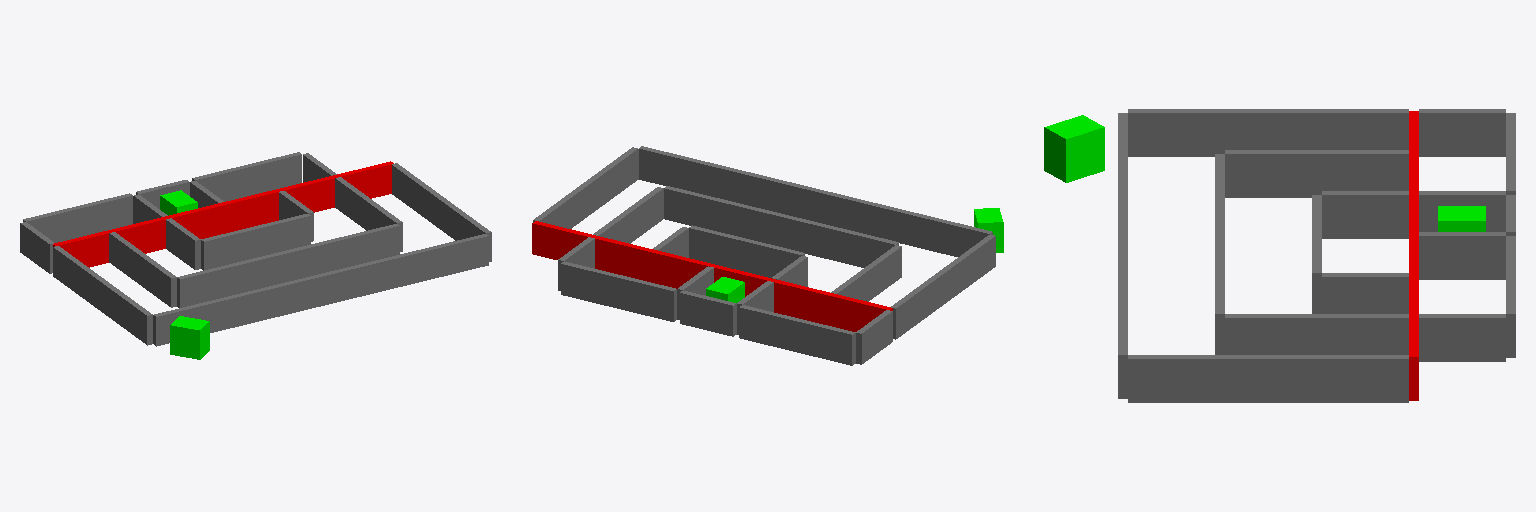
URDF robot description (move_n_times4):
<?xml version="1.0"?>
<!-- created with Phobos 1.0.1 "Capricious Choutengan" -->
  <robot name="move_n_times4">

    <link name="base_link">
    </link>

    <link name="goal">
    </link>

    <link name="link_0_joint_0">
      <visual name="visual_box_2_link_0">
        <origin xyz="0 0 0" rpy="0 0 0"/>
        <geometry>
          <box size="0.374 0.499 0.499"/>
        </geometry>
        <material name="green"/>
      </visual>
      <collision name="collision_box_2_link_0">
        <origin xyz="0 0 0" rpy="0 0 0"/>
        <geometry>
          <box size="0.374 0.499 0.499"/>
        </geometry>
      </collision>
    </link>

    <link name="link_0_joint_0.001">
      <visual name="visual_box_2_link_0.001">
        <origin xyz="0 0 0" rpy="0 0 0"/>
        <geometry>
          <box size="0.37363 0.4985 0.4985"/>
        </geometry>
        <material name="green_translucent"/>
      </visual>
    </link>

    <link name="link_0_joint_1">
    </link>

    <link name="link_0_joint_1.001">
    </link>

    <link name="link_0_joint_2">
    </link>

    <link name="link_1_joint_0">
      <visual name="visual_box_3_link_1">
        <origin xyz="0 0 0" rpy="0 0 0"/>
        <geometry>
          <box size="5.999 0.099 0.499"/>
        </geometry>
        <material name="red"/>
      </visual>
      <collision name="collision_box_3_link_1">
        <origin xyz="0 0 0" rpy="0 0 0"/>
        <geometry>
          <box size="5.999 0.099 0.499"/>
        </geometry>
      </collision>
    </link>

    <link name="link_fixed_10_wall_south_2">
      <visual name="visual_box_fixed_10_wall_south_2">
        <origin xyz="0 0 0" rpy="0 0 0"/>
        <geometry>
          <box size="3.899 0.099 0.499"/>
        </geometry>
        <material name="gray"/>
      </visual>
      <collision name="collision_box_fixed_10_wall_south_2">
        <origin xyz="0 0 0" rpy="0 0 0"/>
        <geometry>
          <box size="3.899 0.099 0.499"/>
        </geometry>
      </collision>
    </link>

    <link name="link_fixed_11_wall_southwest_2">
      <visual name="visual_box_fixed_11_wall_southwest_2">
        <origin xyz="0 0 0" rpy="0 0 0"/>
        <geometry>
          <box size="0.099 1.899 0.499"/>
        </geometry>
        <material name="gray"/>
      </visual>
      <collision name="collision_box_fixed_11_wall_southwest_2">
        <origin xyz="0 0 0" rpy="0 0 0"/>
        <geometry>
          <box size="0.099 1.899 0.499"/>
        </geometry>
      </collision>
    </link>

    <link name="link_fixed_12_wall_southeast_2">
      <visual name="visual_box_fixed_12_wall_southeast_2">
        <origin xyz="0 0 0" rpy="0 0 0"/>
        <geometry>
          <box size="0.099 1.899 0.499"/>
        </geometry>
        <material name="gray"/>
      </visual>
      <collision name="collision_box_fixed_12_wall_southeast_2">
        <origin xyz="0 0 0" rpy="0 0 0"/>
        <geometry>
          <box size="0.099 1.899 0.499"/>
        </geometry>
      </collision>
    </link>

    <link name="link_fixed_13_wall_north_2">
      <visual name="visual_box_fixed_13_wall_north_2">
        <origin xyz="0 0 0" rpy="0 0 0"/>
        <geometry>
          <box size="1.899 0.099 0.499"/>
        </geometry>
        <material name="gray"/>
      </visual>
      <collision name="collision_box_fixed_13_wall_north_2">
        <origin xyz="0 0 0" rpy="0 0 0"/>
        <geometry>
          <box size="1.899 0.099 0.499"/>
        </geometry>
      </collision>
    </link>

    <link name="link_fixed_14_wall_north_side_2">
      <visual name="visual_box_fixed_14_wall_north_side_2">
        <origin xyz="0 0 0" rpy="0 0 0"/>
        <geometry>
          <box size="0.099 0.899 0.499"/>
        </geometry>
        <material name="gray"/>
      </visual>
      <collision name="collision_box_fixed_14_wall_north_side_2">
        <origin xyz="0 0 0" rpy="0 0 0"/>
        <geometry>
          <box size="0.099 0.899 0.499"/>
        </geometry>
      </collision>
    </link>

    <link name="link_fixed_15_wall_south_3">
      <visual name="visual_box_fixed_15_wall_south_3">
        <origin xyz="0 0 0" rpy="0 0 0"/>
        <geometry>
          <box size="5.899 0.099 0.499"/>
        </geometry>
        <material name="gray"/>
      </visual>
      <collision name="collision_box_fixed_15_wall_south_3">
        <origin xyz="0 0 0" rpy="0 0 0"/>
        <geometry>
          <box size="5.899 0.099 0.499"/>
        </geometry>
      </collision>
    </link>

    <link name="link_fixed_16_wall_southwest_3">
      <visual name="visual_box_fixed_16_wall_southwest_3">
        <origin xyz="0 0 0" rpy="0 0 0"/>
        <geometry>
          <box size="0.099 2.899 0.499"/>
        </geometry>
        <material name="gray"/>
      </visual>
      <collision name="collision_box_fixed_16_wall_southwest_3">
        <origin xyz="0 0 0" rpy="0 0 0"/>
        <geometry>
          <box size="0.099 2.899 0.499"/>
        </geometry>
      </collision>
    </link>

    <link name="link_fixed_17_wall_southeast_3">
      <visual name="visual_box_fixed_17_wall_southeast_3">
        <origin xyz="0 0 0" rpy="0 0 0"/>
        <geometry>
          <box size="0.099 2.899 0.499"/>
        </geometry>
        <material name="gray"/>
      </visual>
      <collision name="collision_box_fixed_17_wall_southeast_3">
        <origin xyz="0 0 0" rpy="0 0 0"/>
        <geometry>
          <box size="0.099 2.899 0.499"/>
        </geometry>
      </collision>
    </link>

    <link name="link_fixed_18_wall_north_3">
      <visual name="visual_box_fixed_18_wall_north_3">
        <origin xyz="0 0 0" rpy="0 0 0"/>
        <geometry>
          <box size="1.899 0.099 0.499"/>
        </geometry>
        <material name="gray"/>
      </visual>
      <collision name="collision_box_fixed_18_wall_north_3">
        <origin xyz="0 0 0" rpy="0 0 0"/>
        <geometry>
          <box size="1.899 0.099 0.499"/>
        </geometry>
      </collision>
    </link>

    <link name="link_fixed_19_wall_north_side_3">
      <visual name="visual_box_fixed_19_wall_north_side_3">
        <origin xyz="0 0 0" rpy="0 0 0"/>
        <geometry>
          <box size="0.099 0.899 0.499"/>
        </geometry>
        <material name="gray"/>
      </visual>
      <collision name="collision_box_fixed_19_wall_north_side_3">
        <origin xyz="0 0 0" rpy="0 0 0"/>
        <geometry>
          <box size="0.099 0.899 0.499"/>
        </geometry>
      </collision>
    </link>

    <link name="link_fixed_4_wall_north_0">
      <visual name="visual_box_fixed_4_wall_north_0">
        <origin xyz="0 0 0" rpy="0 0 0"/>
        <geometry>
          <box size="0.899 0.099 0.499"/>
        </geometry>
        <material name="gray"/>
      </visual>
      <collision name="collision_box_fixed_4_wall_north_0">
        <origin xyz="0 0 0" rpy="0 0 0"/>
        <geometry>
          <box size="0.899 0.099 0.499"/>
        </geometry>
      </collision>
    </link>

    <link name="link_fixed_5_wall_northwest_0">
      <visual name="visual_box_fixed_5_wall_northwest_0">
        <origin xyz="0 0 0" rpy="0 0 0"/>
        <geometry>
          <box size="0.099 0.899 0.499"/>
        </geometry>
        <material name="gray"/>
      </visual>
      <collision name="collision_box_fixed_5_wall_northwest_0">
        <origin xyz="0 0 0" rpy="0 0 0"/>
        <geometry>
          <box size="0.099 0.899 0.499"/>
        </geometry>
      </collision>
    </link>

    <link name="link_fixed_6_wall_northeast_0">
      <visual name="visual_box_fixed_6_wall_northeast_0">
        <origin xyz="0 0 0" rpy="0 0 0"/>
        <geometry>
          <box size="0.099 0.899 0.499"/>
        </geometry>
        <material name="gray"/>
      </visual>
      <collision name="collision_box_fixed_6_wall_northeast_0">
        <origin xyz="0 0 0" rpy="0 0 0"/>
        <geometry>
          <box size="0.099 0.899 0.499"/>
        </geometry>
      </collision>
    </link>

    <link name="link_fixed_7_wall_south_1">
      <visual name="visual_box_fixed_7_wall_south_1">
        <origin xyz="0 0 0" rpy="0 0 0"/>
        <geometry>
          <box size="1.899 0.099 0.499"/>
        </geometry>
        <material name="gray"/>
      </visual>
      <collision name="collision_box_fixed_7_wall_south_1">
        <origin xyz="0 0 0" rpy="0 0 0"/>
        <geometry>
          <box size="1.899 0.099 0.499"/>
        </geometry>
      </collision>
    </link>

    <link name="link_fixed_8_wall_southwest_1">
      <visual name="visual_box_fixed_8_wall_southwest_1">
        <origin xyz="0 0 0" rpy="0 0 0"/>
        <geometry>
          <box size="0.099 0.899 0.499"/>
        </geometry>
        <material name="gray"/>
      </visual>
      <collision name="collision_box_fixed_8_wall_southwest_1">
        <origin xyz="0 0 0" rpy="0 0 0"/>
        <geometry>
          <box size="0.099 0.899 0.499"/>
        </geometry>
      </collision>
    </link>

    <link name="link_fixed_9_wall_southeast_1">
      <visual name="visual_box_fixed_9_wall_southeast_1">
        <origin xyz="0 0 0" rpy="0 0 0"/>
        <geometry>
          <box size="0.099 0.899 0.499"/>
        </geometry>
        <material name="gray"/>
      </visual>
      <collision name="collision_box_fixed_9_wall_southeast_1">
        <origin xyz="0 0 0" rpy="0 0 0"/>
        <geometry>
          <box size="0.099 0.899 0.499"/>
        </geometry>
      </collision>
    </link>

    <joint name="goal" type="fixed">
      <origin xyz="-2.11162 -4.0 0.25" rpy="0 0 -2.49338"/>
      <parent link="base_link"/>
      <child link="goal"/>
      <limit effort="0" velocity="0"/>
    </joint>

    <joint name="link_0_joint_0" type="revolute">
      <origin xyz="0 0 0" rpy="0 0 0"/>
      <parent link="link_0_joint_1"/>
      <child link="link_0_joint_0"/>
      <axis xyz="0 0 1.0"/>
      <limit lower="-3.14159" upper="3.14159" effort="0" velocity="0"/>
    </joint>

    <joint name="link_0_joint_0.001" type="fixed">
      <origin xyz="0 0 0" rpy="0 0 0"/>
      <parent link="link_0_joint_1.001"/>
      <child link="link_0_joint_0.001"/>
      <limit effort="0" velocity="0"/>
    </joint>

    <joint name="link_0_joint_1" type="prismatic">
      <origin xyz="0 0 0" rpy="0 0 0"/>
      <parent link="link_0_joint_2"/>
      <child link="link_0_joint_1"/>
      <axis xyz="0 1.0 0"/>
      <limit lower="-4.0" upper="0.5" effort="0" velocity="0"/>
    </joint>

    <joint name="link_0_joint_1.001" type="fixed">
      <origin xyz="0 0 0" rpy="0 0 0"/>
      <parent link="goal"/>
      <child link="link_0_joint_1.001"/>
      <limit effort="0" velocity="0"/>
    </joint>

    <joint name="link_0_joint_2" type="prismatic">
      <origin xyz="0 0 0.25" rpy="0 0 0"/>
      <parent link="base_link"/>
      <child link="link_0_joint_2"/>
      <axis xyz="1.0 0 0"/>
      <limit lower="-4.0" upper="4.0" effort="0" velocity="0"/>
    </joint>

    <joint name="link_1_joint_0" type="prismatic">
      <origin xyz="0.5 -0.5 0.25" rpy="0 0 0"/>
      <parent link="base_link"/>
      <child link="link_1_joint_0"/>
      <axis xyz="1.0 0 0"/>
      <limit lower="-3.0" upper="3.0" effort="0" velocity="0"/>
    </joint>

    <joint name="link_fixed_10_wall_south_2" type="fixed">
      <origin xyz="0.5 -2.5 0.25" rpy="0 0 0"/>
      <parent link="base_link"/>
      <child link="link_fixed_10_wall_south_2"/>
    </joint>

    <joint name="link_fixed_11_wall_southwest_2" type="fixed">
      <origin xyz="-1.5 -1.5 0.25" rpy="0 0 0"/>
      <parent link="base_link"/>
      <child link="link_fixed_11_wall_southwest_2"/>
    </joint>

    <joint name="link_fixed_12_wall_southeast_2" type="fixed">
      <origin xyz="2.5 -1.5 0.25" rpy="0 0 0"/>
      <parent link="base_link"/>
      <child link="link_fixed_12_wall_southeast_2"/>
    </joint>

    <joint name="link_fixed_13_wall_north_2" type="fixed">
      <origin xyz="1.5 0.5 0.25" rpy="0 0 0"/>
      <parent link="base_link"/>
      <child link="link_fixed_13_wall_north_2"/>
    </joint>

    <joint name="link_fixed_14_wall_north_side_2" type="fixed">
      <origin xyz="2.5 0 0.25" rpy="0 0 0"/>
      <parent link="base_link"/>
      <child link="link_fixed_14_wall_north_side_2"/>
    </joint>

    <joint name="link_fixed_15_wall_south_3" type="fixed">
      <origin xyz="0.5 -3.5 0.25" rpy="0 0 0"/>
      <parent link="base_link"/>
      <child link="link_fixed_15_wall_south_3"/>
    </joint>

    <joint name="link_fixed_16_wall_southwest_3" type="fixed">
      <origin xyz="-2.5 -2.0 0.25" rpy="0 0 0"/>
      <parent link="base_link"/>
      <child link="link_fixed_16_wall_southwest_3"/>
    </joint>

    <joint name="link_fixed_17_wall_southeast_3" type="fixed">
      <origin xyz="3.5 -2.0 0.25" rpy="0 0 0"/>
      <parent link="base_link"/>
      <child link="link_fixed_17_wall_southeast_3"/>
    </joint>

    <joint name="link_fixed_18_wall_north_3" type="fixed">
      <origin xyz="-1.5 0.5 0.25" rpy="0 0 0"/>
      <parent link="base_link"/>
      <child link="link_fixed_18_wall_north_3"/>
    </joint>

    <joint name="link_fixed_19_wall_north_side_3" type="fixed">
      <origin xyz="-2.5 0 0.25" rpy="0 0 0"/>
      <parent link="base_link"/>
      <child link="link_fixed_19_wall_north_side_3"/>
    </joint>

    <joint name="link_fixed_4_wall_north_0" type="fixed">
      <origin xyz="0 0.5 0.25" rpy="0 0 0"/>
      <parent link="base_link"/>
      <child link="link_fixed_4_wall_north_0"/>
    </joint>

    <joint name="link_fixed_5_wall_northwest_0" type="fixed">
      <origin xyz="-0.5 0 0.25" rpy="0 0 0"/>
      <parent link="base_link"/>
      <child link="link_fixed_5_wall_northwest_0"/>
    </joint>

    <joint name="link_fixed_6_wall_northeast_0" type="fixed">
      <origin xyz="0.5 0 0.25" rpy="0 0 0"/>
      <parent link="base_link"/>
      <child link="link_fixed_6_wall_northeast_0"/>
    </joint>

    <joint name="link_fixed_7_wall_south_1" type="fixed">
      <origin xyz="0.5 -1.5 0.25" rpy="0 0 0"/>
      <parent link="base_link"/>
      <child link="link_fixed_7_wall_south_1"/>
    </joint>

    <joint name="link_fixed_8_wall_southwest_1" type="fixed">
      <origin xyz="-0.5 -1.0 0.25" rpy="0 0 0"/>
      <parent link="base_link"/>
      <child link="link_fixed_8_wall_southwest_1"/>
    </joint>

    <joint name="link_fixed_9_wall_southeast_1" type="fixed">
      <origin xyz="1.5 -1.0 0.25" rpy="0 0 0"/>
      <parent link="base_link"/>
      <child link="link_fixed_9_wall_southeast_1"/>
    </joint>

    <material name="gray">
      <color rgba="0.5 0.5 0.5 1.0"/>
    </material>

    <material name="green">
      <color rgba="0 1.0 0 1.0"/>
    </material>

    <material name="green_translucent">
      <color rgba="0 1.0 0 0.25"/>
    </material>

    <material name="red">
      <color rgba="1.0 0 0 1.0"/>
    </material>

  </robot>

--- What the picture shows (computed from the rendered views, not written in the file) ---
Views: 3 orthographic renders of the robot side by side, from view 1: azimuth 30°, elevation 25°; view 2: azimuth 150°, elevation 25°; view 3: azimuth 270°, elevation 25°.
Model move_n_times4 with 24 links and 23 joints (1 revolute, 3 prismatic, 19 fixed), rooted at base_link, posed every joint at zero.
Visible links, largest first — view 1: link_fixed_15_wall_south_3, link_1_joint_0, link_fixed_10_wall_south_2, link_fixed_7_wall_south_1, link_fixed_16_wall_southwest_3, link_fixed_18_wall_north_3, link_fixed_13_wall_north_2, link_fixed_17_wall_southeast_3, link_fixed_11_wall_southwest_2, link_fixed_12_wall_southeast_2, link_0_joint_0.001, link_fixed_8_wall_southwest_1 (+6 smaller); view 2: link_fixed_15_wall_south_3, link_1_joint_0, link_fixed_10_wall_south_2, link_fixed_18_wall_north_3, link_fixed_13_wall_north_2, link_fixed_16_wall_southwest_3, link_fixed_7_wall_south_1, link_fixed_17_wall_southeast_3, link_fixed_4_wall_north_0, link_fixed_12_wall_southeast_2, link_fixed_11_wall_southwest_2, link_fixed_19_wall_north_side_3 (+7 smaller); view 3: link_fixed_17_wall_southeast_3, link_fixed_16_wall_southwest_3, link_fixed_11_wall_southwest_2, link_fixed_12_wall_southeast_2, link_fixed_14_wall_north_side_2, link_fixed_19_wall_north_side_3, link_fixed_6_wall_northeast_0, link_fixed_8_wall_southwest_1, link_fixed_9_wall_southeast_1, link_0_joint_0.001, link_1_joint_0, link_fixed_15_wall_south_3 (+6 smaller).
Boxes of the visible links, <box> form: link_fixed_15_wall_south_3: <box>153,234,488,346</box>; link_1_joint_0: <box>53,161,393,267</box>; link_fixed_10_wall_south_2: <box>177,224,399,307</box>; link_fixed_7_wall_south_1: <box>201,214,310,270</box>; link_fixed_16_wall_southwest_3: <box>53,246,152,345</box>; link_fixed_18_wall_north_3: <box>23,193,132,242</box>; link_fixed_13_wall_north_2: <box>192,152,301,201</box>; link_fixed_17_wall_southeast_3: <box>392,163,491,261</box>; link_fixed_11_wall_southwest_2: <box>109,232,176,307</box>; link_fixed_12_wall_southeast_2: <box>335,177,402,251</box>; link_0_joint_0.001: <box>170,316,209,359</box>; link_fixed_8_wall_southwest_1: <box>166,218,200,269</box>; link_fixed_15_wall_south_3: <box>639,146,992,256</box>; link_1_joint_0: <box>532,221,892,331</box>; link_fixed_10_wall_south_2: <box>664,186,898,267</box>; link_fixed_18_wall_north_3: <box>739,305,855,365</box>; link_fixed_13_wall_north_2: <box>561,261,676,321</box>; link_fixed_16_wall_southwest_3: <box>891,234,995,339</box>; link_fixed_7_wall_south_1: <box>689,225,804,277</box>; link_fixed_17_wall_southeast_3: <box>533,147,638,228</box>; link_fixed_4_wall_north_0: <box>680,290,736,336</box>; link_fixed_12_wall_southeast_2: <box>593,187,663,243</box>; link_fixed_11_wall_southwest_2: <box>831,245,901,301</box>; link_fixed_19_wall_north_side_3: <box>856,310,892,364</box>; link_fixed_17_wall_southeast_3: <box>1128,355,1408,402</box>; link_fixed_16_wall_southwest_3: <box>1128,109,1408,156</box>; link_fixed_11_wall_southwest_2: <box>1225,150,1408,197</box>; link_fixed_12_wall_southeast_2: <box>1225,314,1408,354</box>; link_fixed_14_wall_north_side_2: <box>1419,314,1505,361</box>; link_fixed_19_wall_north_side_3: <box>1419,109,1505,156</box>; link_fixed_6_wall_northeast_0: <box>1419,232,1505,279</box>; link_fixed_8_wall_southwest_1: <box>1322,191,1408,238</box>; link_fixed_9_wall_southeast_1: <box>1322,273,1408,313</box>; link_0_joint_0.001: <box>1044,115,1104,182</box>; link_1_joint_0: <box>1409,111,1418,400</box>; link_fixed_15_wall_south_3: <box>1118,113,1127,398</box>.
Bounding box of the posed robot: 6.1 × 4.86 × 0.499 m (x, y, z).
Geometry: primitives only (box / cylinder / sphere), no mesh files.